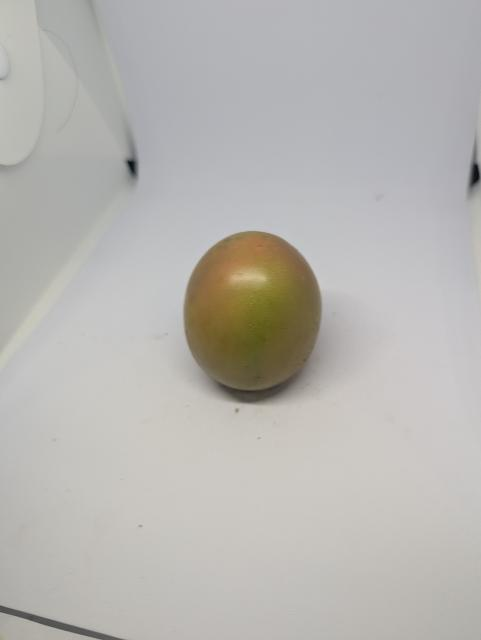breaker: (184, 232, 322, 391)
